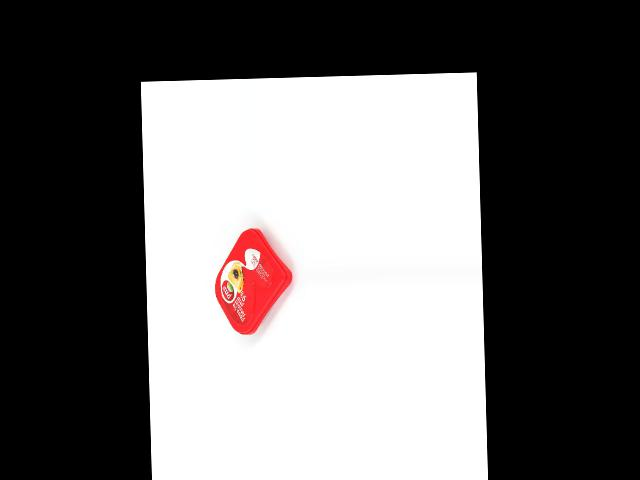cheese: (213, 226, 294, 335)
